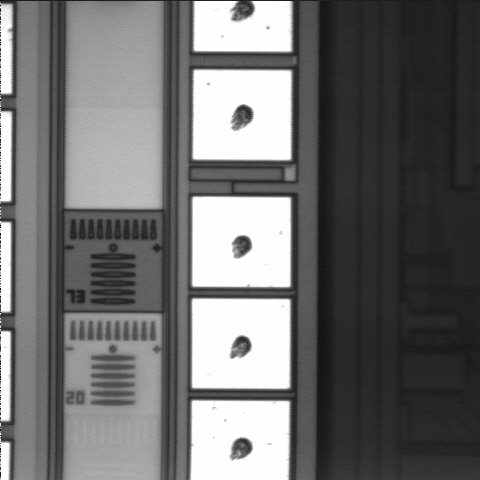pad: (192, 197, 291, 287), (193, 70, 291, 160), (192, 299, 290, 389)
